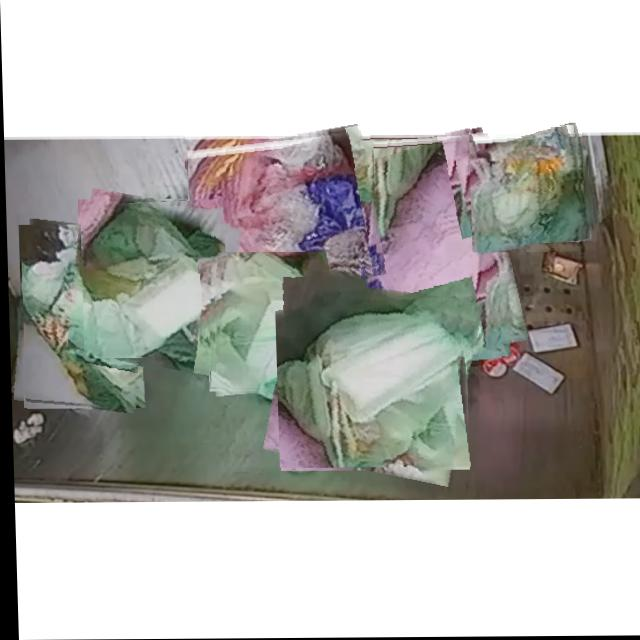general_trashbag: (275, 297, 461, 468), (80, 201, 225, 357), (21, 226, 138, 409), (210, 253, 322, 390), (470, 127, 582, 253)
other_trashbag: (363, 134, 497, 367), (185, 135, 373, 269)
